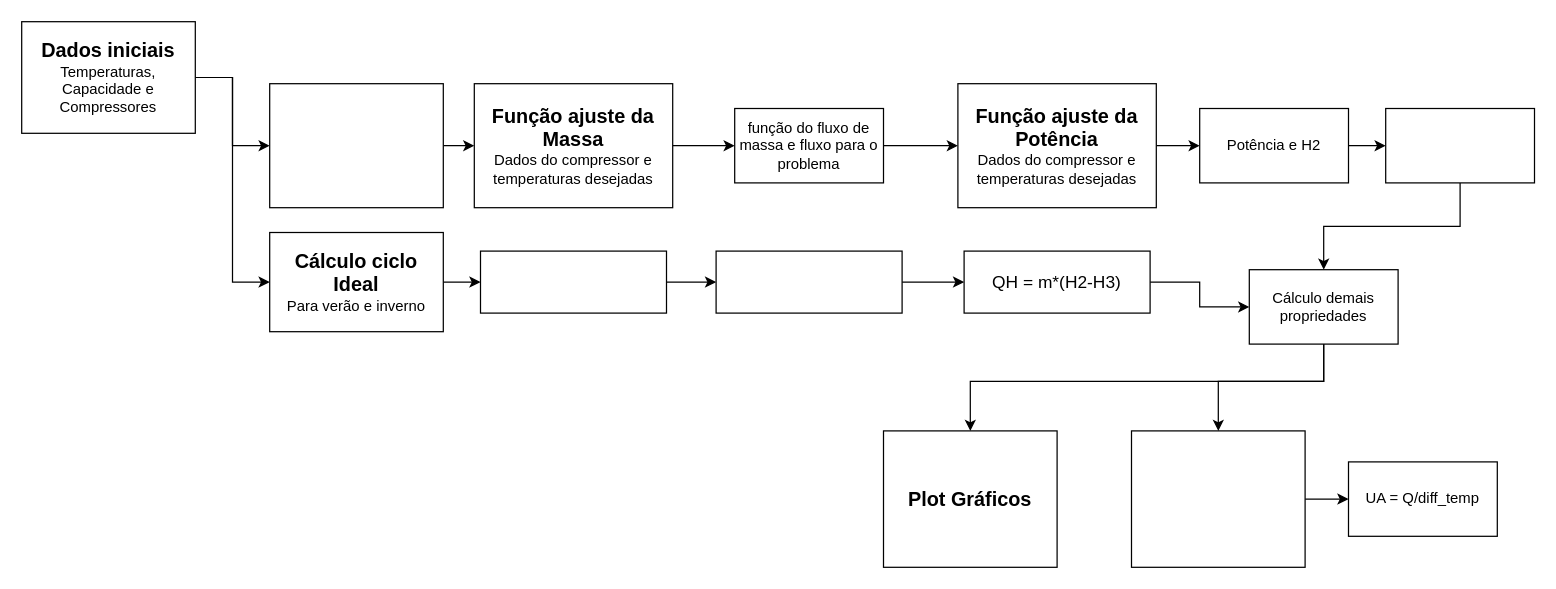
This 1556x589 diagram has some shape labels left out. The shapes that lost their labels are listed below. From the top down, each one's centre as x and y in pixels, then its label:
At (355,145): "Cálculo ciclo compressores Reais Para verão e inverno".
At (1459,145): "QH = QL_calc + w COP = QL_calc / w COP = QH / w".
At (572,281): "COP = TL/(TH-TL)".
At (808,281): "m = QL/(H1-H4)".
At (1217,498): "Cálculo Coeficiente Transferência de Calor".
